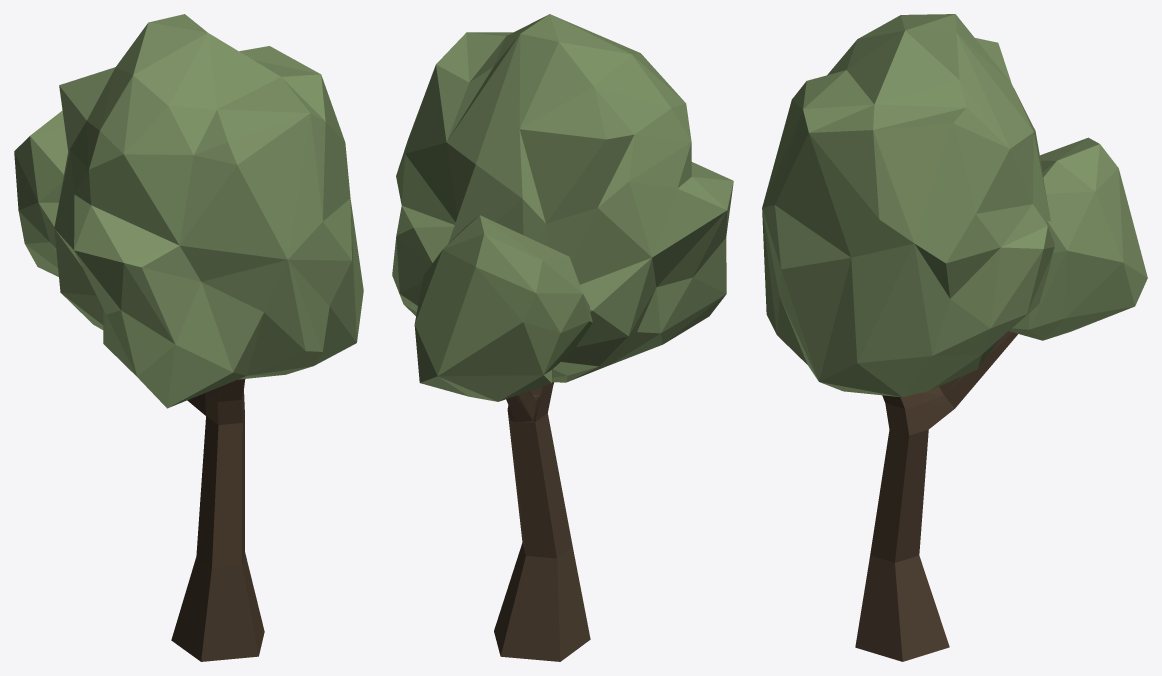
Rendered from tree_007.fbx.
3 views of the same model, side by side, from view 1: azimuth 30°, elevation 25°; view 2: azimuth 150°, elevation 25°; view 3: azimuth 270°, elevation 25° (orthographic). The views are drawn at different scales.
Parts seen in each view (by area): view 1: tree_007; view 2: tree_007; view 3: tree_007.
Part boxes in pixels (x1=…): tree_007: x1=14, y1=14, x2=363, y2=661; tree_007: x1=392, y1=14, x2=733, y2=661; tree_007: x1=762, y1=14, x2=1147, y2=661.
Bounding box in the file's own units: 0.3794 × 0.7968 × 0.449.
1 material, 1 textured.
